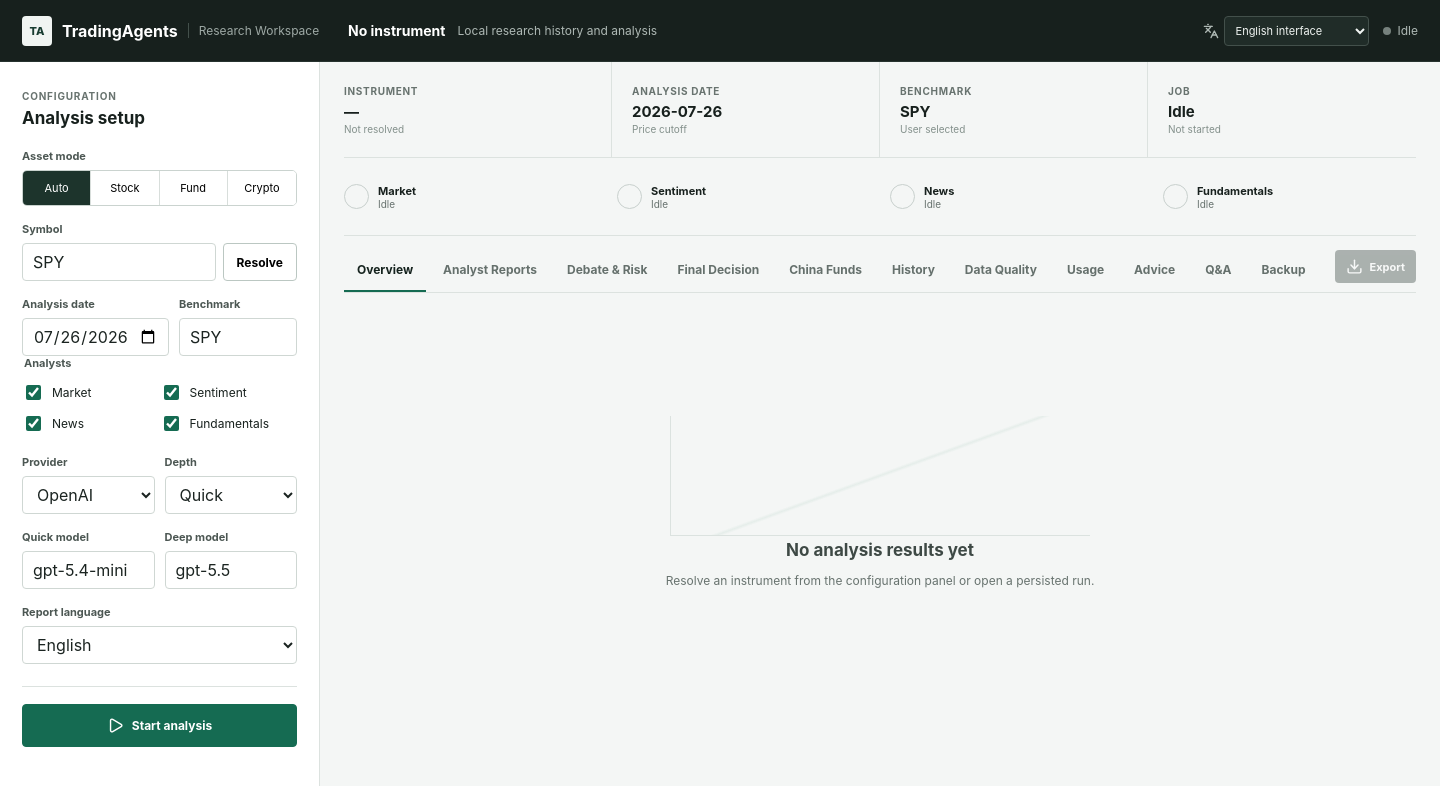
Scenario: renders stable empty report states and accessible export action
Click the button "Analyst Reports": (490, 270) [430,249,550,292]
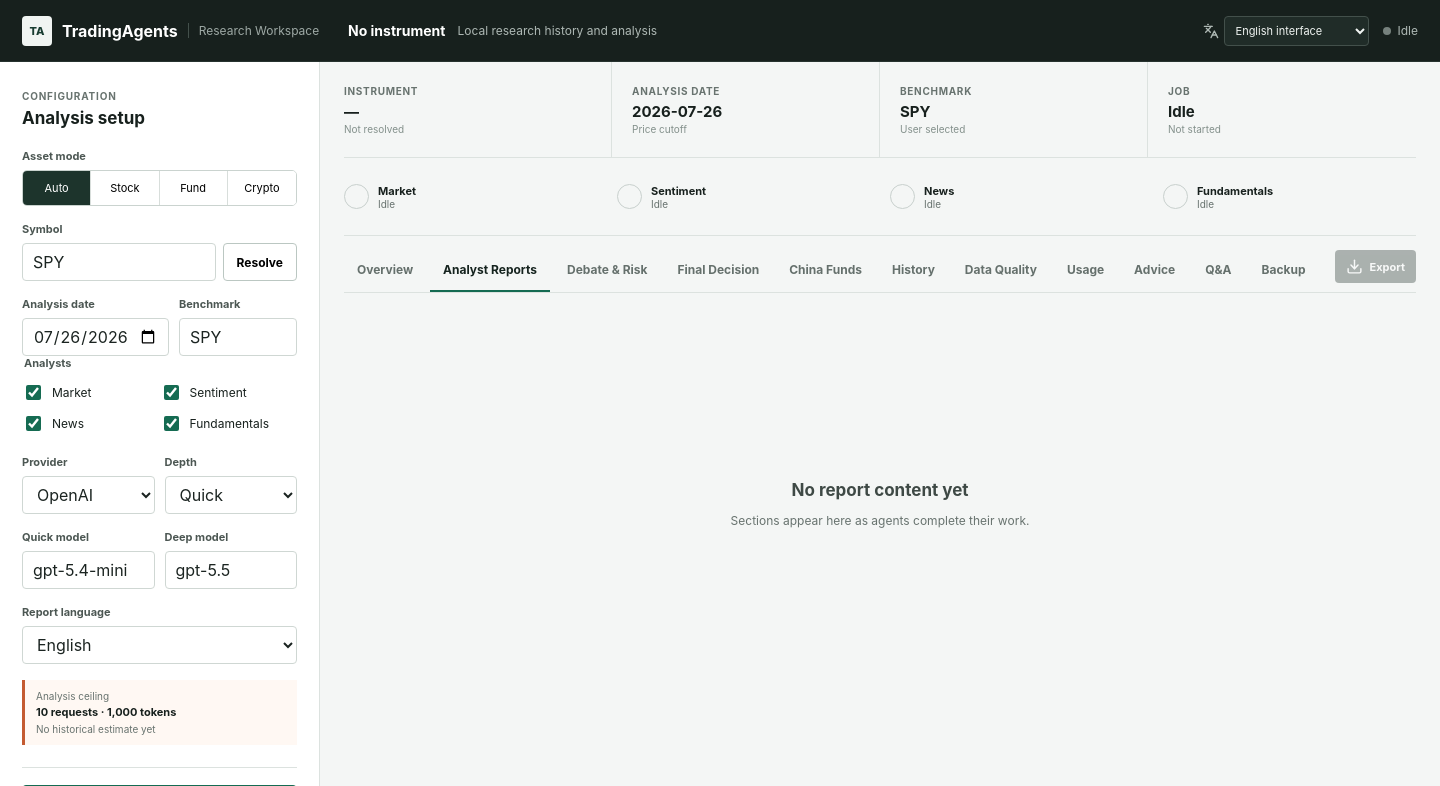
Expected: the button with aria-label "Download Markdown report" is shown, [1334,250,1416,283]
Expected: the heading "No report content yet" is shown, [792,479,968,501]
